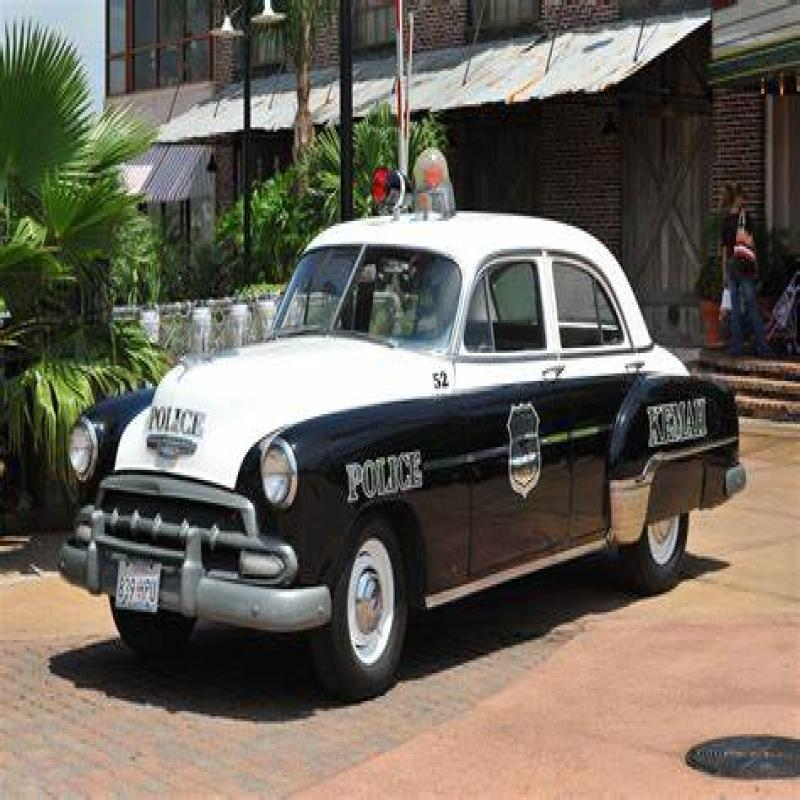AmbulanceSiren: (354, 149, 444, 220)
